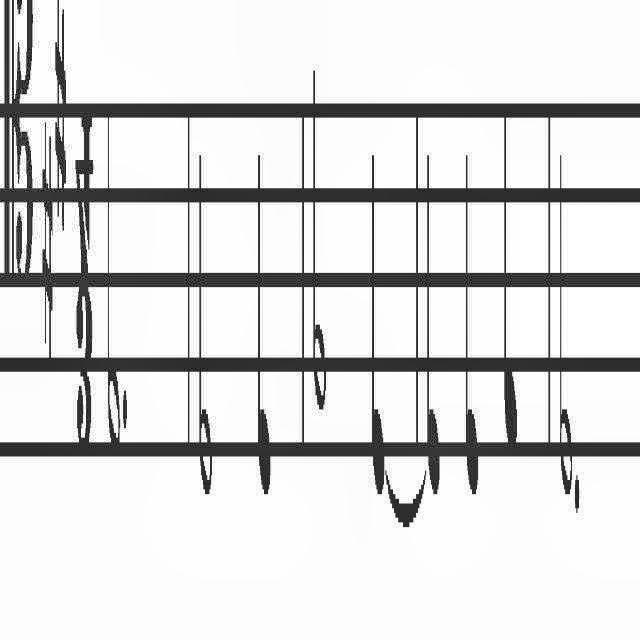Diez: (41, 121, 55, 365), (53, 0, 67, 232)
Half-note: (198, 130, 214, 510), (312, 53, 328, 427), (558, 142, 574, 510), (106, 100, 122, 456)
Quarter-note: (256, 141, 272, 515), (464, 136, 480, 504), (426, 141, 442, 503), (370, 138, 386, 498), (504, 110, 518, 466)
